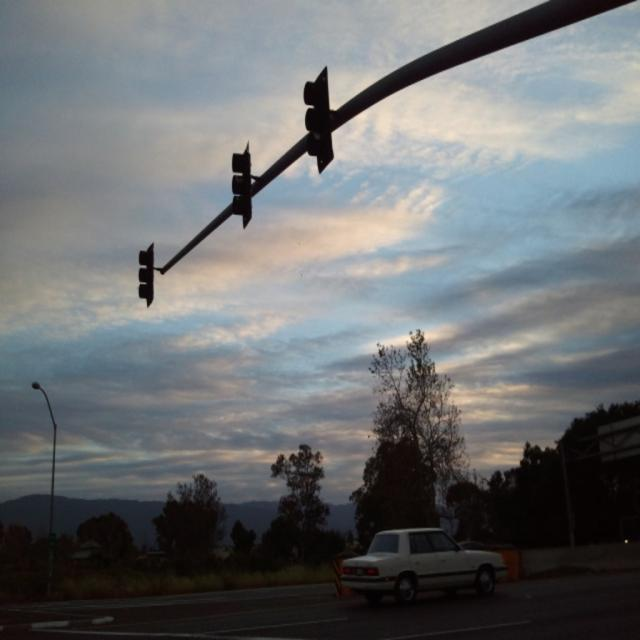off traffic light: (303, 75, 336, 170), (228, 150, 254, 230), (135, 246, 158, 307)
